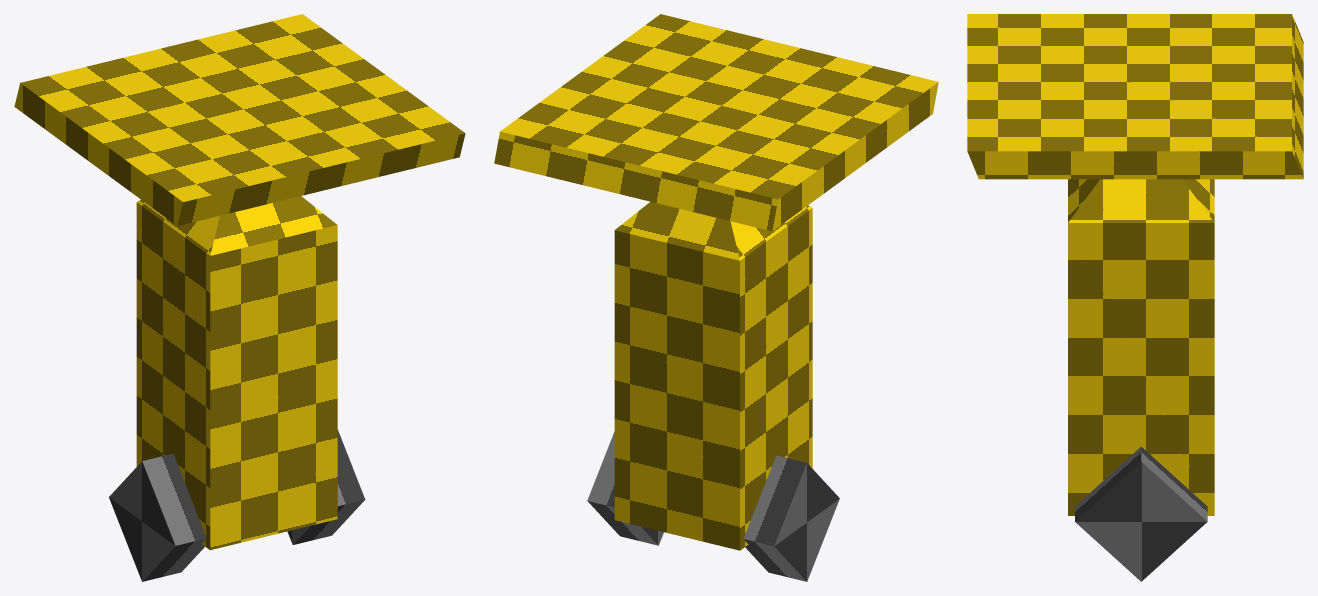
Rendered from test_friend.gltf.
3 views of the same model, side by side, from view 1: azimuth 30°, elevation 25°; view 2: azimuth 150°, elevation 25°; view 3: azimuth 270°, elevation 25° (orthographic).
Parts seen in each view (by area): view 1: Cube, Cylinder, Cylinder.001; view 2: Cube, Cylinder, Cylinder.001; view 3: Cube, Cylinder.001.
Part boxes in pixels (x1,y1,x2,y2): Cube: [14, 14, 465, 550]; Cylinder: [109, 453, 206, 581]; Cylinder.001: [287, 429, 365, 544]; Cube: [494, 14, 938, 550]; Cylinder: [743, 455, 839, 581]; Cylinder.001: [587, 431, 663, 545]; Cube: [967, 14, 1303, 515]; Cylinder.001: [1075, 446, 1207, 581].
Bounding box in the file's own units: 3.75 × 5.77 × 3.88.
